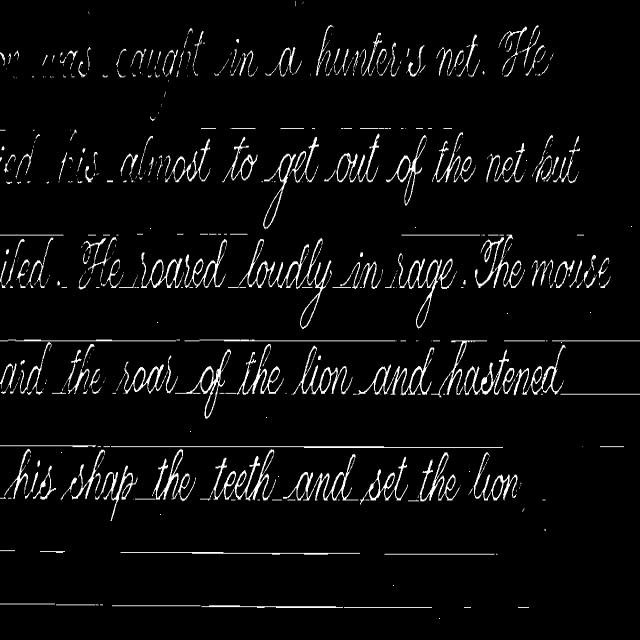noise: (110, 601, 436, 609), (103, 444, 502, 450), (120, 550, 362, 558), (434, 602, 530, 618), (0, 338, 152, 343), (380, 552, 496, 557), (504, 340, 640, 344), (0, 602, 105, 607), (183, 338, 293, 341), (201, 125, 256, 131), (560, 392, 640, 396), (0, 233, 64, 238), (0, 444, 95, 447), (598, 440, 625, 449), (400, 234, 486, 236), (200, 233, 249, 236), (450, 340, 488, 343), (0, 547, 16, 554), (39, 550, 66, 554), (295, 340, 398, 341), (436, 234, 486, 236), (360, 127, 392, 130), (152, 340, 180, 343), (280, 127, 304, 130), (340, 127, 354, 130), (443, 127, 452, 130), (416, 127, 424, 130), (400, 127, 408, 130)
not-noise: (78, 235, 610, 327), (0, 128, 477, 206), (2, 448, 521, 507), (51, 349, 564, 396), (314, 24, 488, 77), (116, 37, 204, 119), (485, 135, 580, 184), (497, 25, 554, 77), (0, 248, 48, 287), (0, 360, 48, 394), (215, 39, 258, 76), (41, 48, 90, 77), (266, 46, 304, 76), (0, 50, 20, 78), (428, 127, 433, 130), (310, 127, 316, 129)
